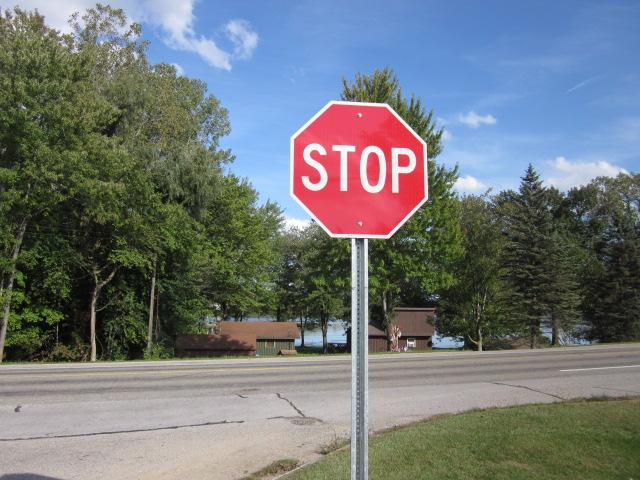stop: (286, 93, 436, 247)
